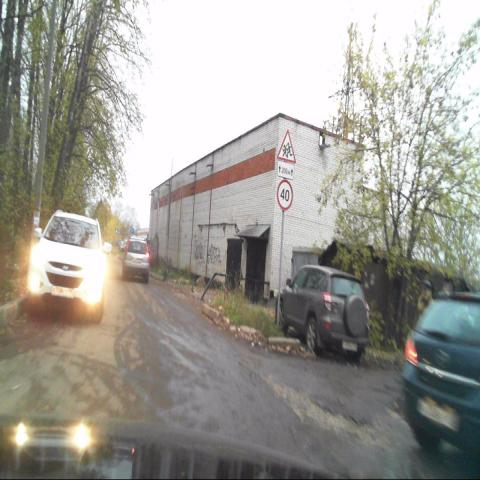3_24: (277, 180, 293, 211)
